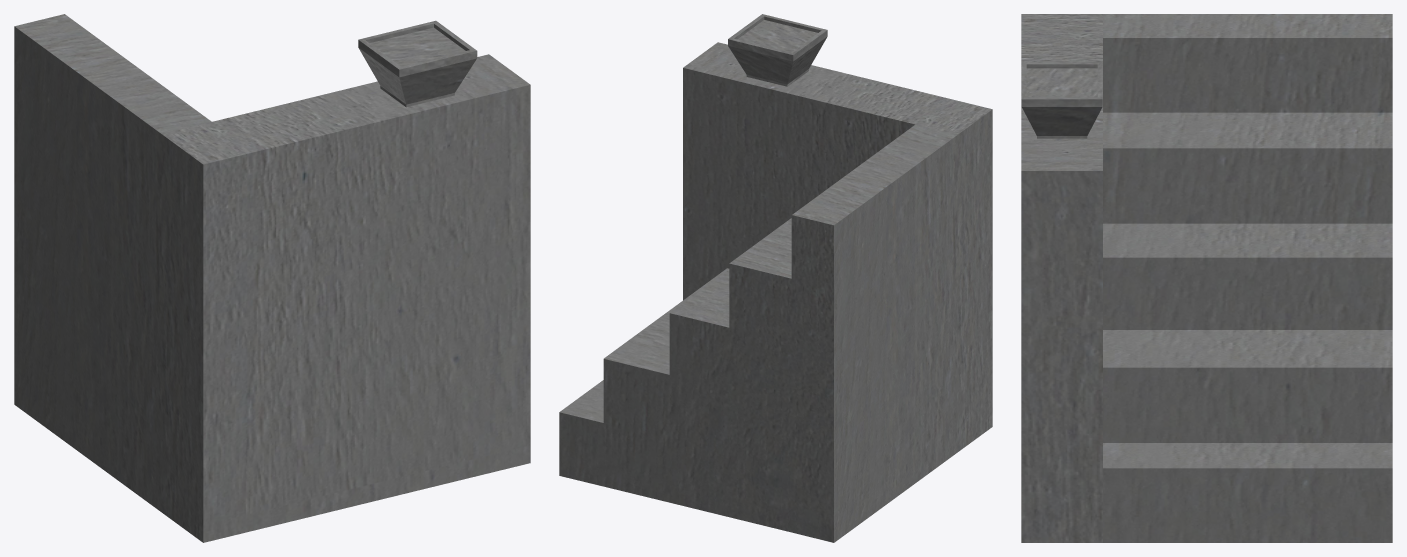
The model's file is Stairway.fbx.
3 renders of one model, left to right at view 1: azimuth 30°, elevation 25°; view 2: azimuth 150°, elevation 25°; view 3: azimuth 270°, elevation 25°, orthographic. The views are drawn at different scales.
Visible parts, largest first — view 1: pCube1; view 2: pCube1; view 3: pCube1.
Part boxes in pixels (left/top/right/bottom): pCube1: left=14, top=14, right=530, bottom=542; pCube1: left=559, top=14, right=992, bottom=542; pCube1: left=1021, top=14, right=1392, bottom=542.
Size of the model in its own units: 12.54 by 15.57 by 12.54.
Materials: 1 (1 with a texture image).
